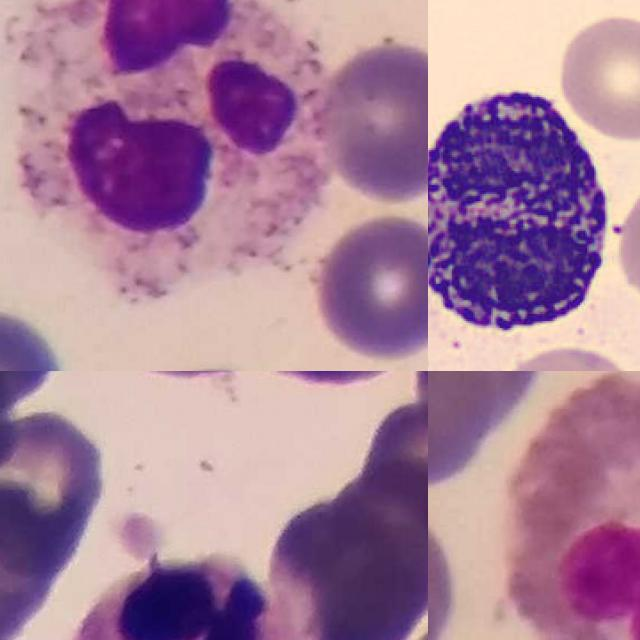Basophil: (428, 68, 625, 353)
Eosinophil: (500, 371, 640, 640)
Neutrophil: (15, 0, 328, 285), (67, 556, 291, 640)
RBC: (554, 9, 640, 143), (494, 340, 640, 371)
